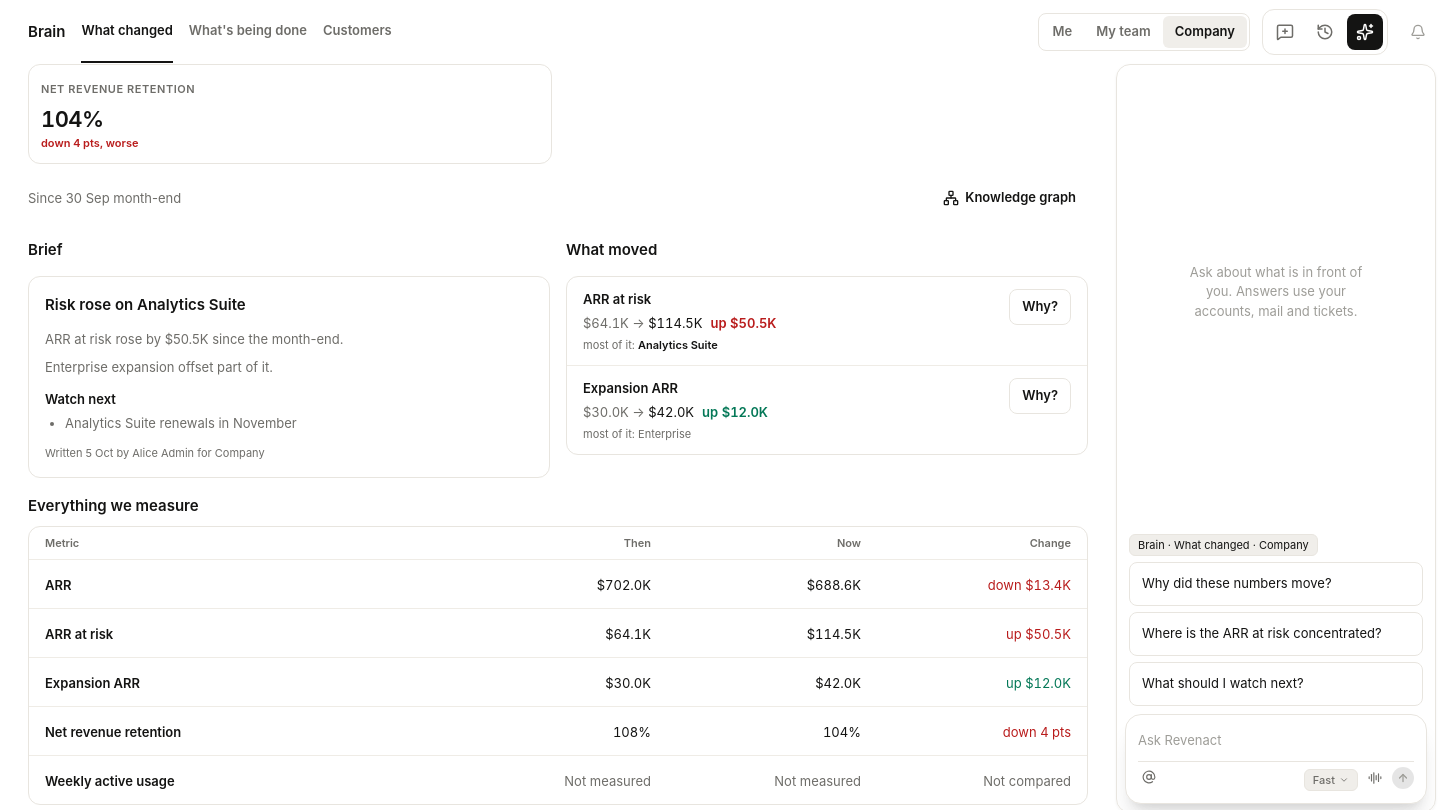
Test: Ask on the Brain: the chip and the states › chips the next question with the tab title and the scope, following both
Expected: the text "Brain · What changed · Company" is shown, [1129,534,1318,556]
Click the button "Me" at (1062, 32), box [1040,16,1084,48]
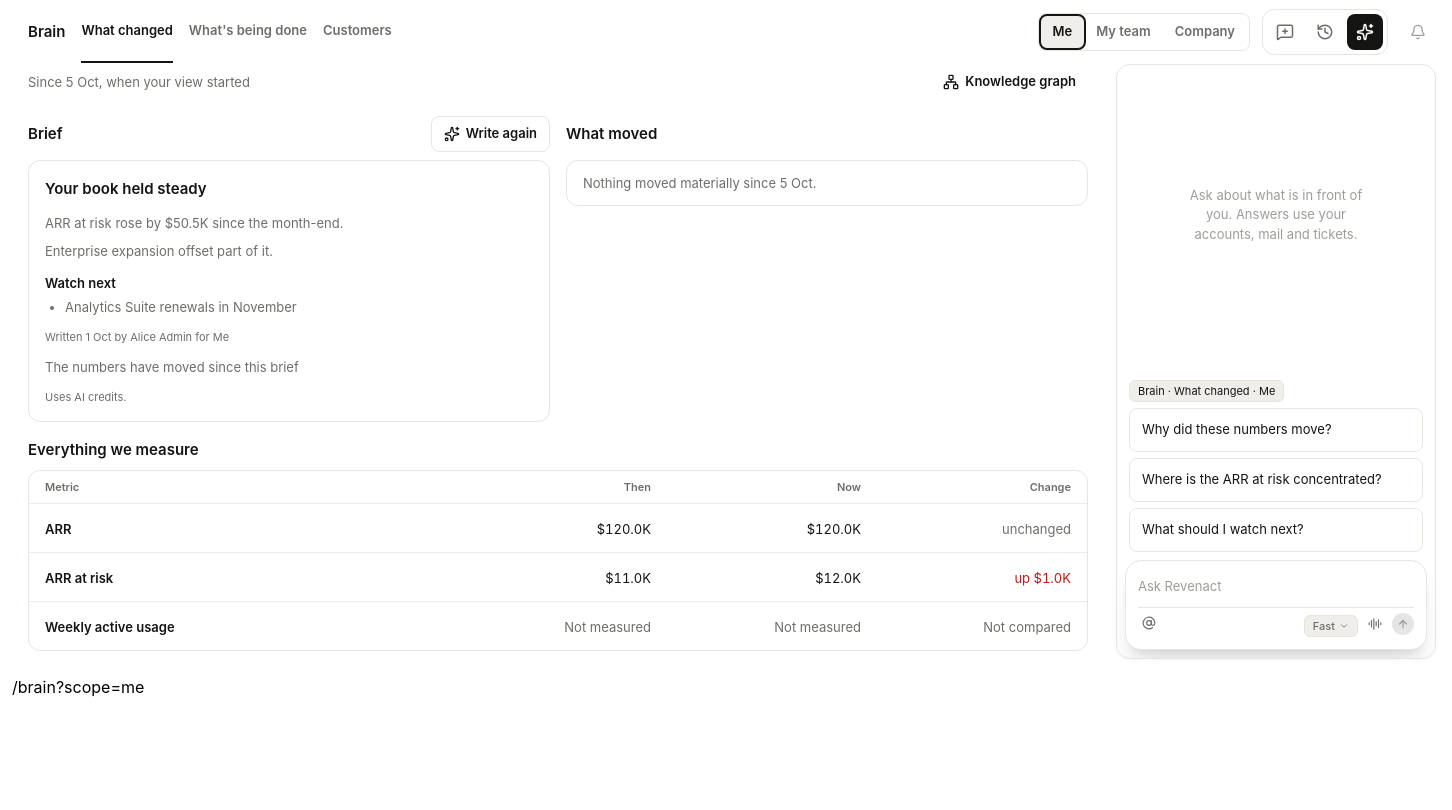
Result: the text with test id "where" reads "/brain?scope=me" at [12,677,144,697]
Result: the text "Brain · What changed · Me" is shown at [1129,380,1284,402]
Click the link "What's being done" at (248, 30), box [189,22,307,38]
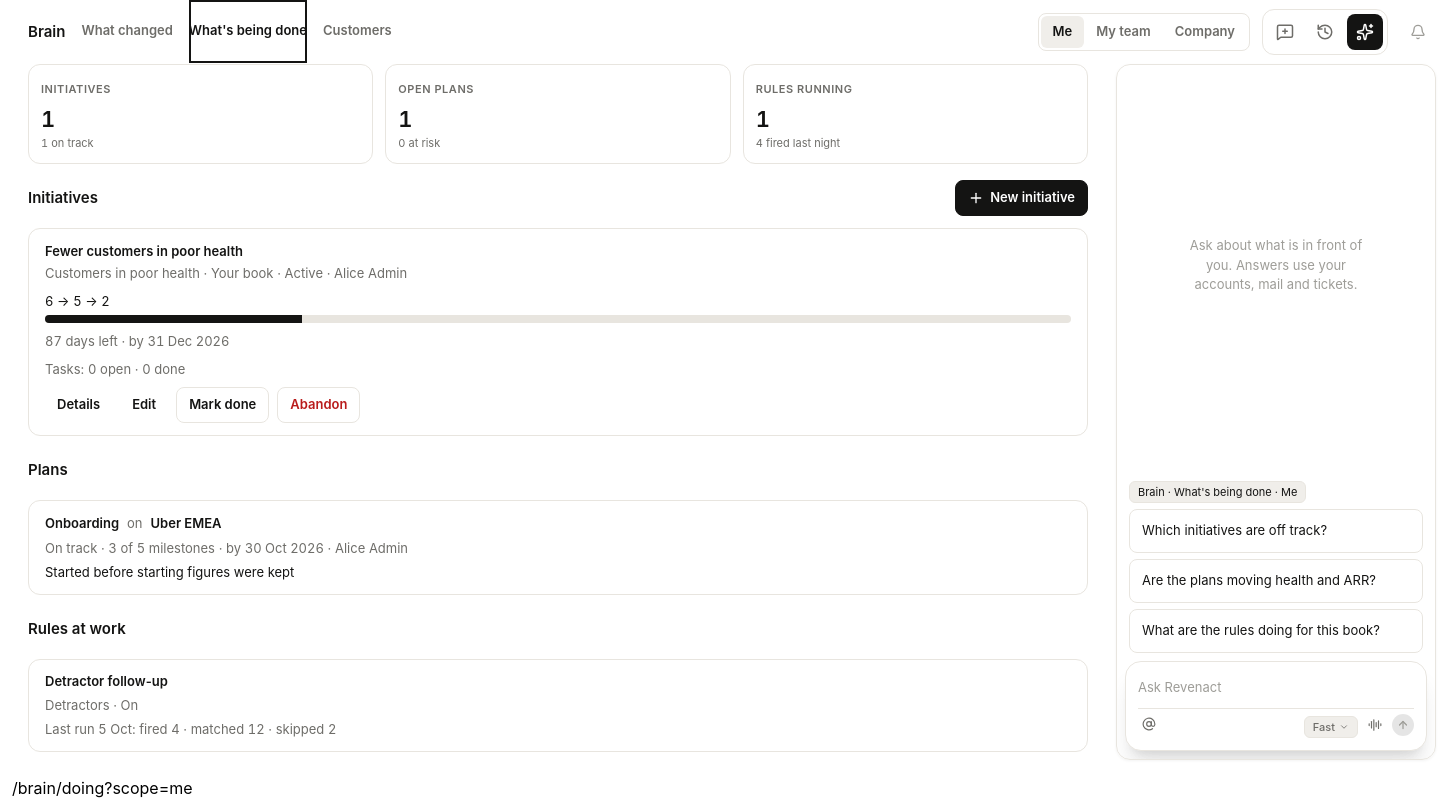
Result: the text "Brain · What's being done · Me" is shown at [1129,480,1306,503]
